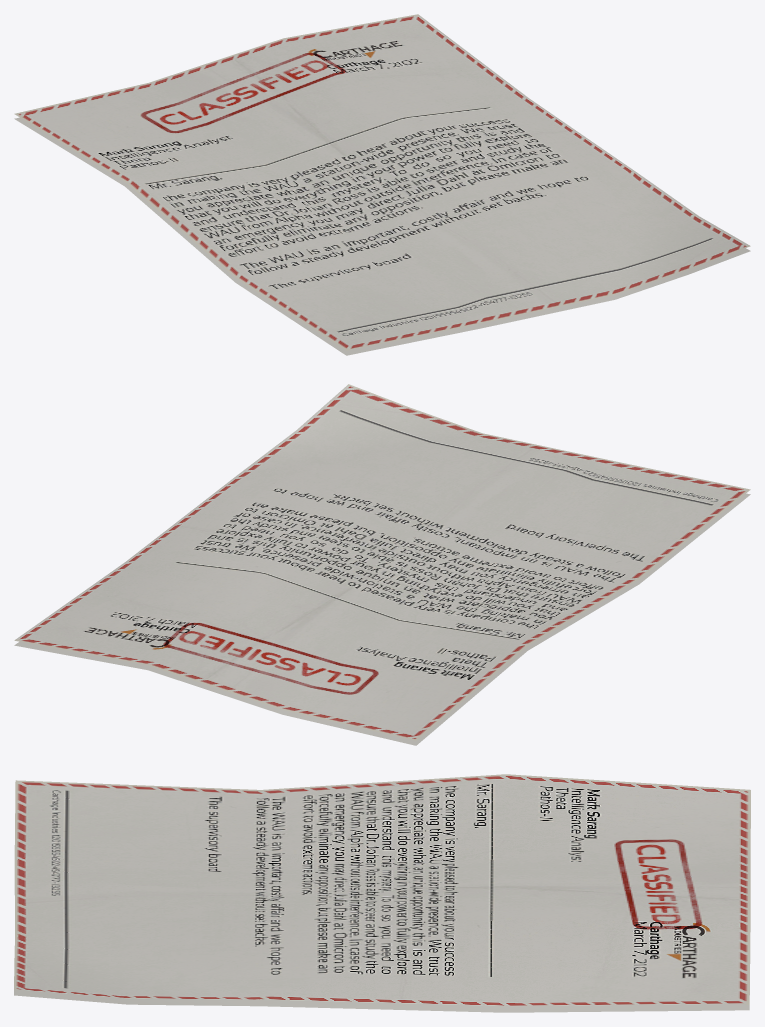
Rendered from 02_05_sarang_note.dae.
The picture shows the model from 3 angles, top to bottom: view 1: azimuth 30°, elevation 25°; view 2: azimuth 150°, elevation 25°; view 3: azimuth 270°, elevation 25°; orthographic projection. The views are drawn at different scales.
Parts seen in each view (by area): view 1: note; view 2: note; view 3: note.
Boxes of the visible parts, bbox=[...] form: note: bbox=[14, 14, 750, 355]; note: bbox=[14, 384, 750, 745]; note: bbox=[14, 774, 750, 1012].
Bounding box in the file's own units: 24.54 × 1.37 × 35.12.
